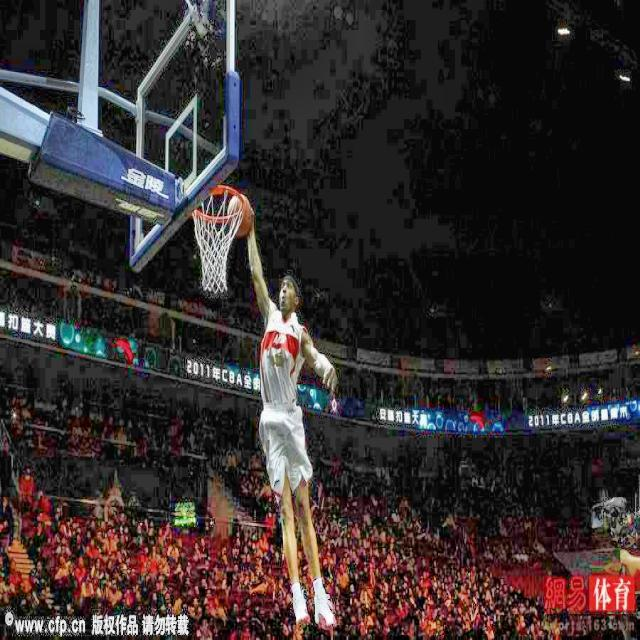rim: (192, 185, 245, 293)
